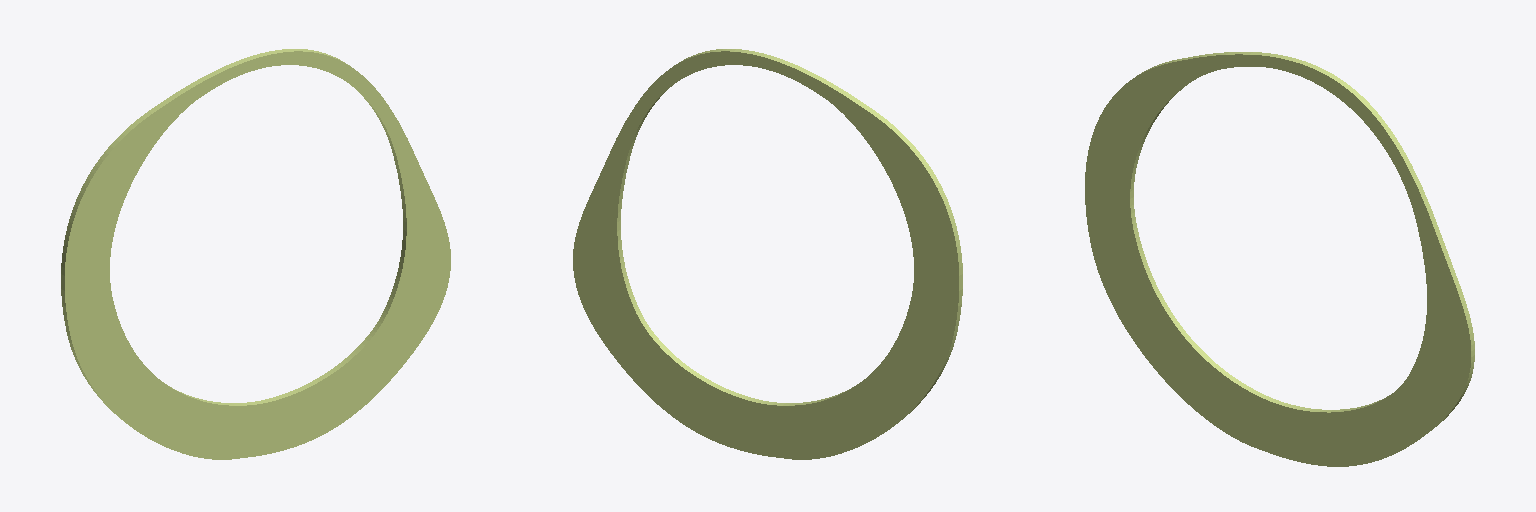
The model's file is EyeRingTest.obj.
The picture shows the model from 3 angles: view 1: azimuth 30°, elevation 25°; view 2: azimuth 150°, elevation 25°; view 3: azimuth 330°, elevation 25°; orthographic projection.
Visible parts, largest first — view 1: Line022; view 2: Line022; view 3: Line022.
Boxes of the visible parts, box(x1,y1,x2,y2) form: Line022: box(61, 49, 450, 459); Line022: box(573, 49, 962, 459); Line022: box(1085, 52, 1474, 466).
Bounding box in the file's own units: 60.47 × 59.7 × 1.